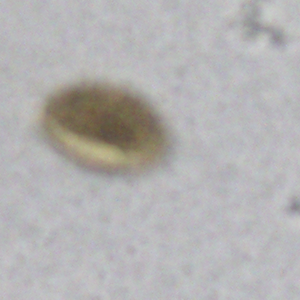Fasciola_hepatica_egg: (36, 81, 162, 172)
